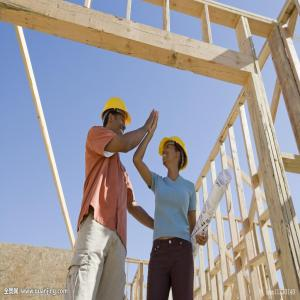yellow: (159, 135, 188, 176), (103, 98, 129, 137)
